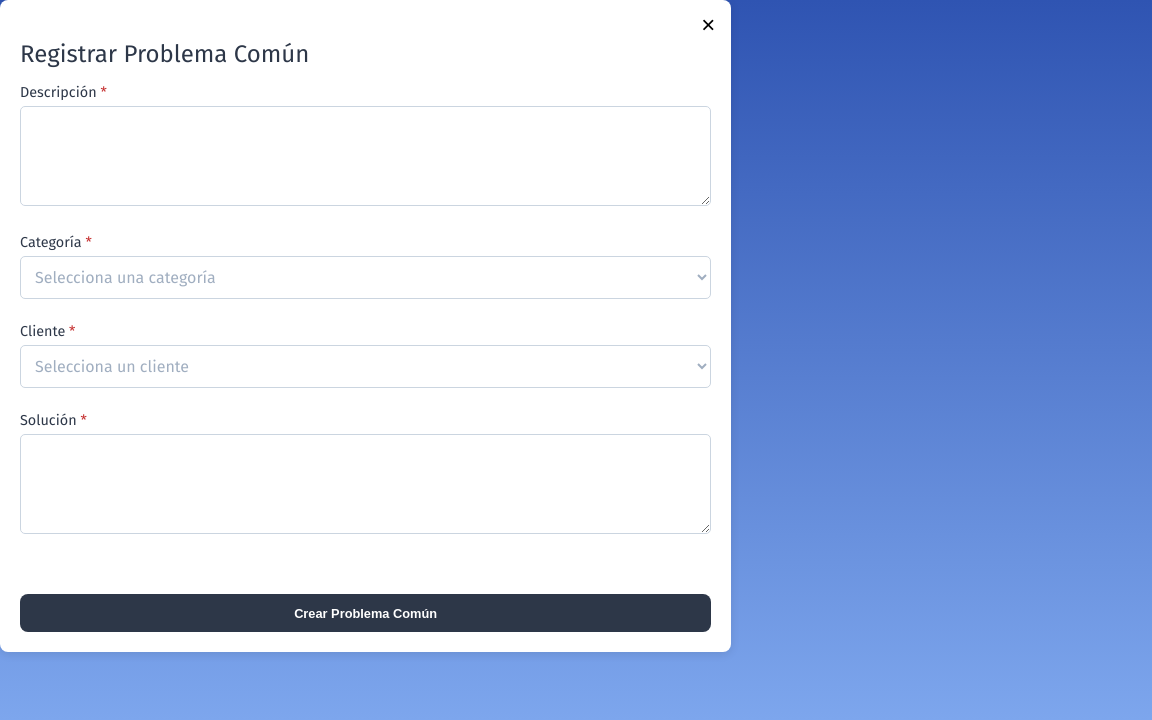
CreateProblemaComun component › displays error message when submission fails
Type "Problema de ejemplo" into the text box labelled "Descripción".
click(366, 156); type("Problema de ejemplo")  # box x1=20 y1=106 x2=711 y2=206
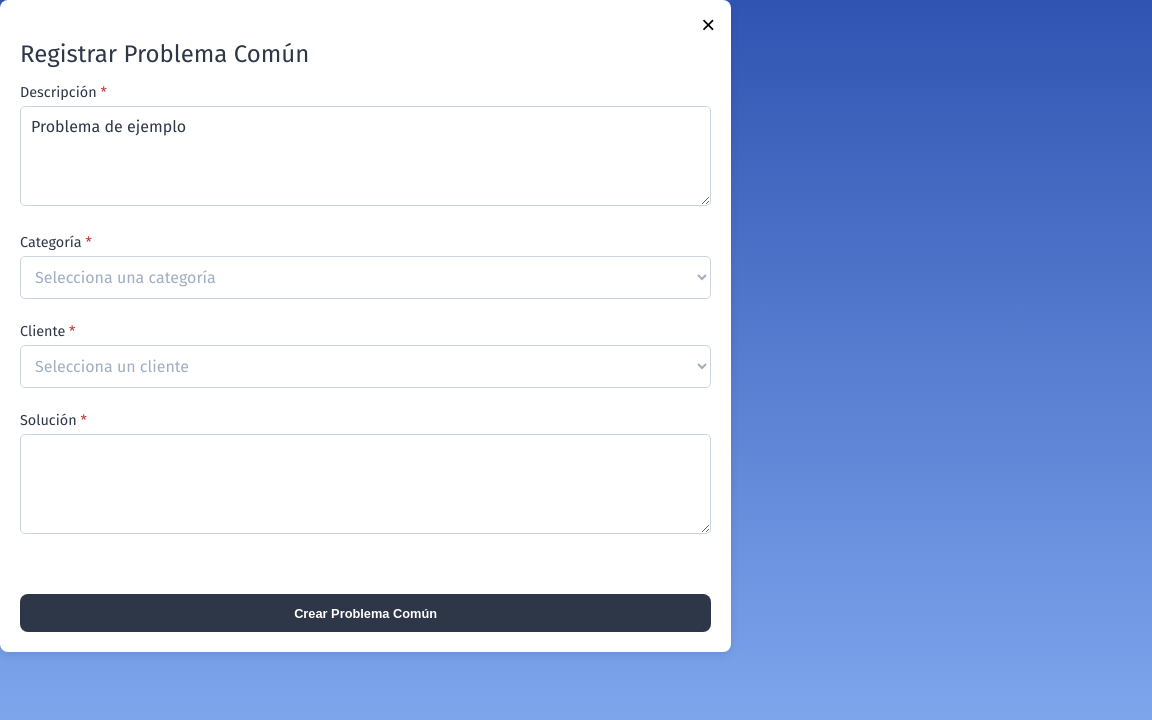
Select "Hardware" in the dropdown labelled "Categoría" at (366,277), box x1=20 y1=256 x2=711 y2=299
Select "4" in the dropdown labelled "Cliente" at (366,366), box x1=20 y1=345 x2=711 y2=388
Type "Solución de ejemplo" into the text box labelled "Solución".
click(366, 484); type("Solución de ejemplo")  # box x1=20 y1=434 x2=711 y2=534
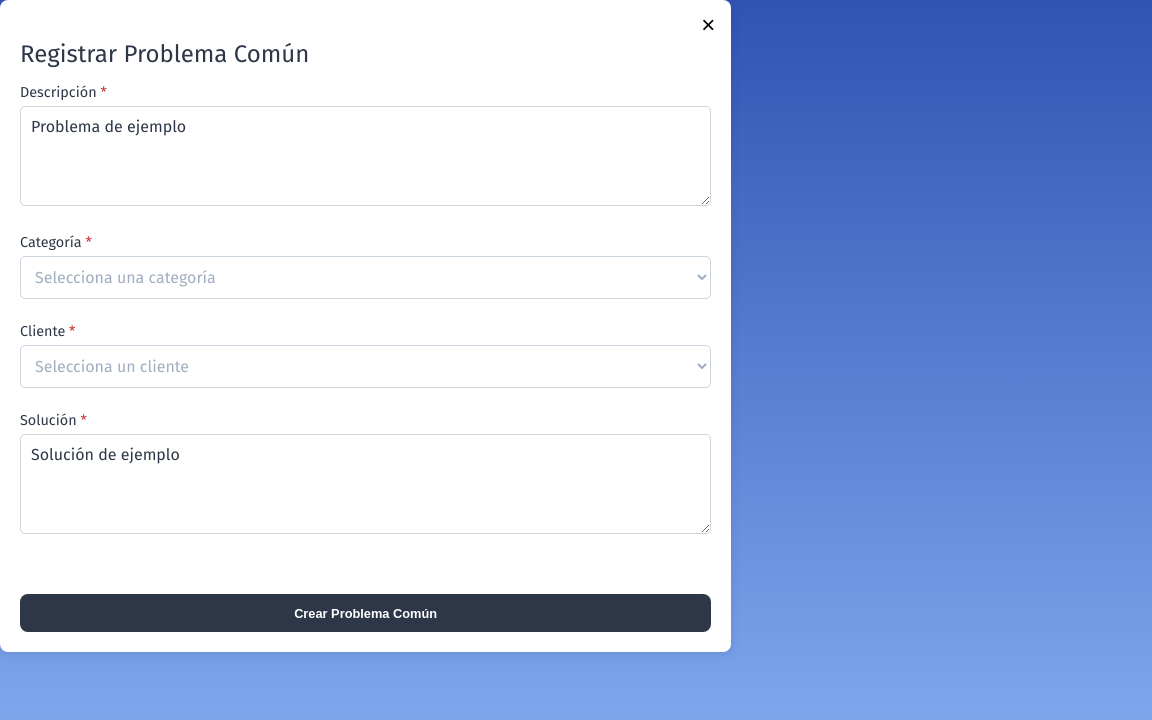
Submit the form from the button "Crear Problema Común", box x1=20 y1=594 x2=711 y2=632
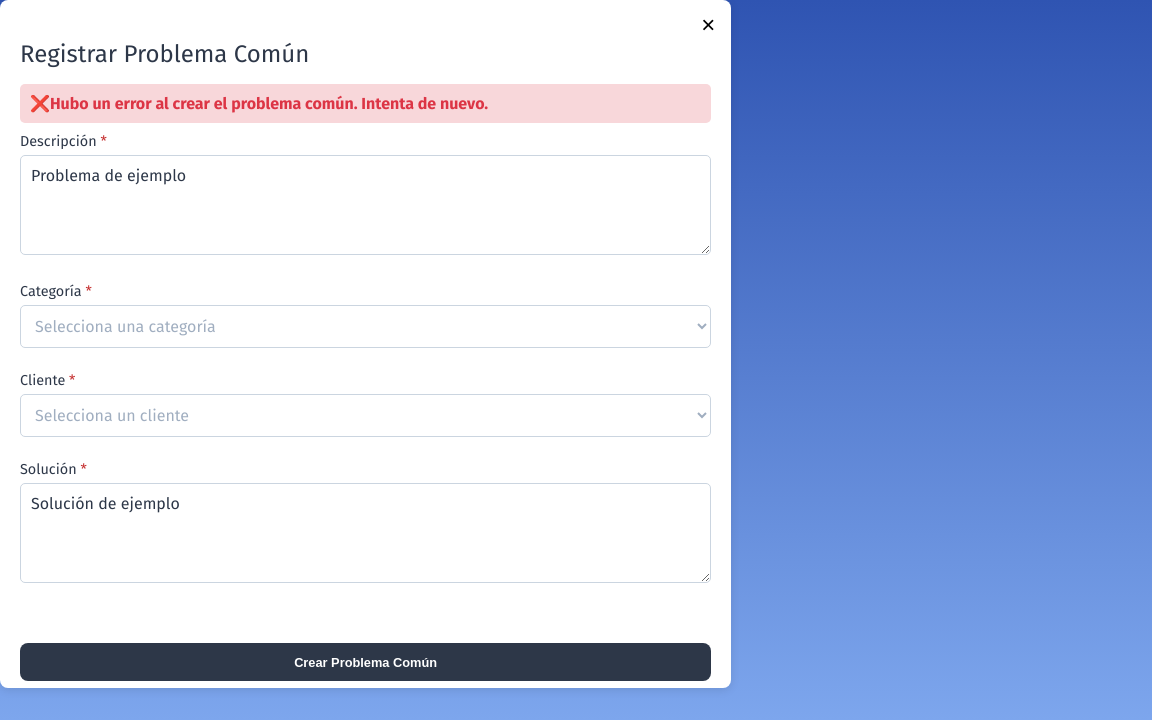
Now the text "Hubo un error al crear el problema común" is shown, box x1=50 y1=94 x2=488 y2=113
